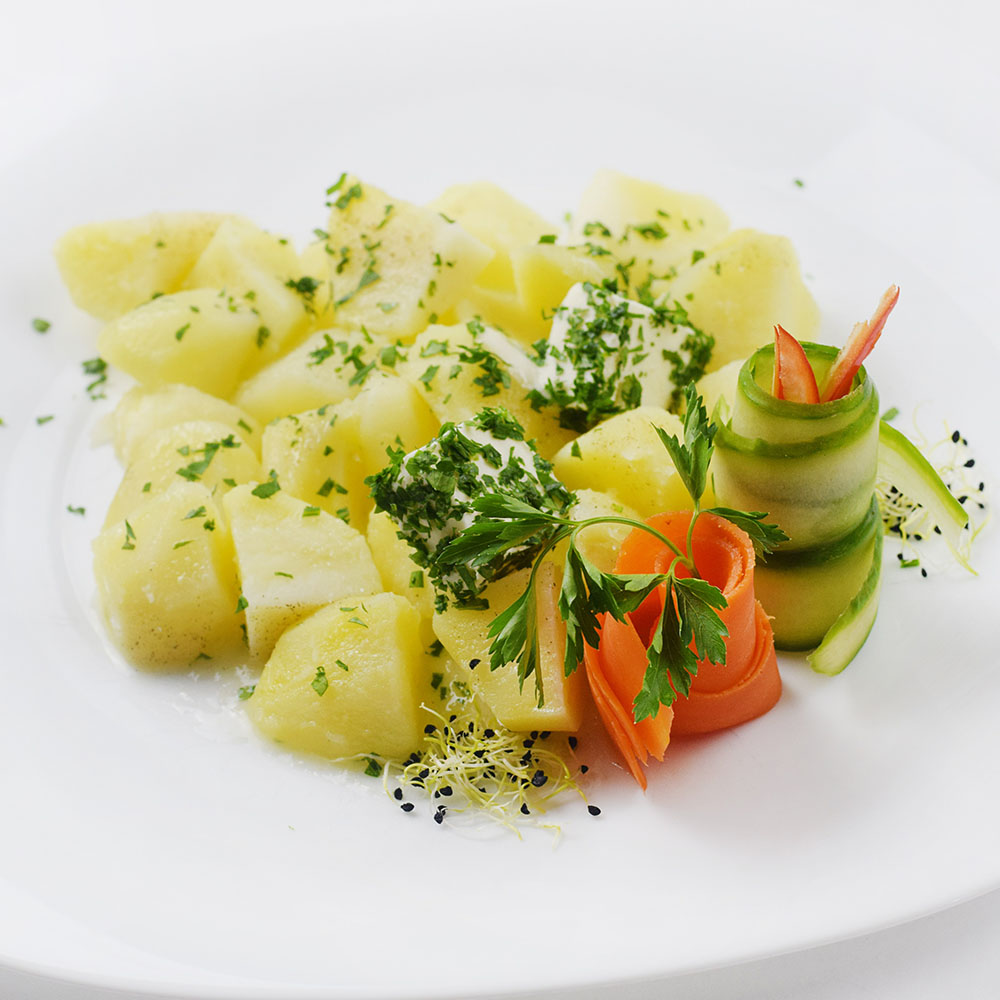boiled potatoes: (37, 178, 730, 726)
